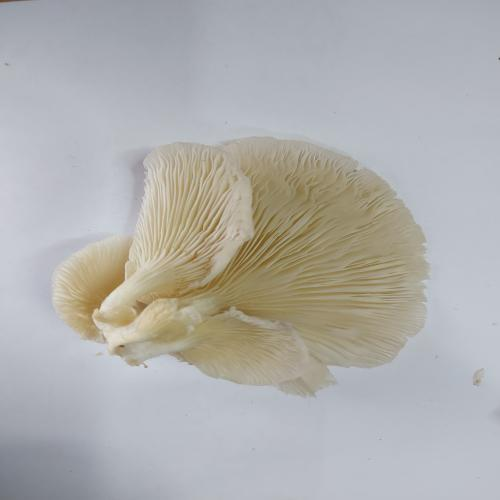Oyster Mushroom: (51, 135, 431, 398)
